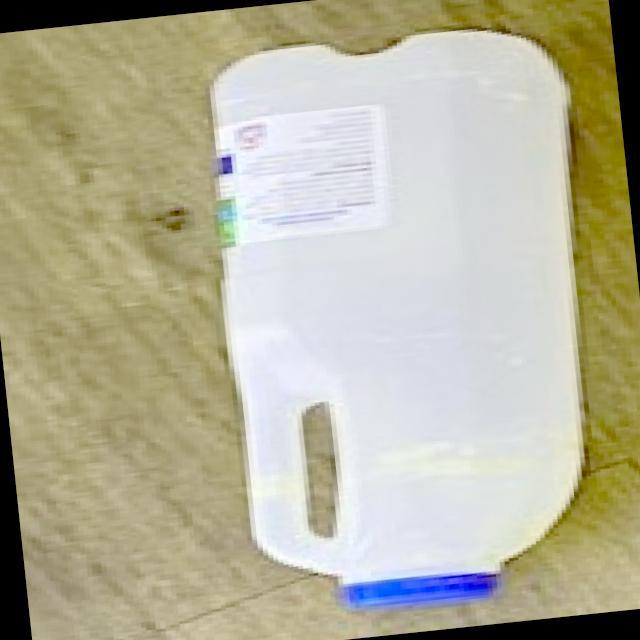HDPE Plastic: (204, 26, 592, 610)
